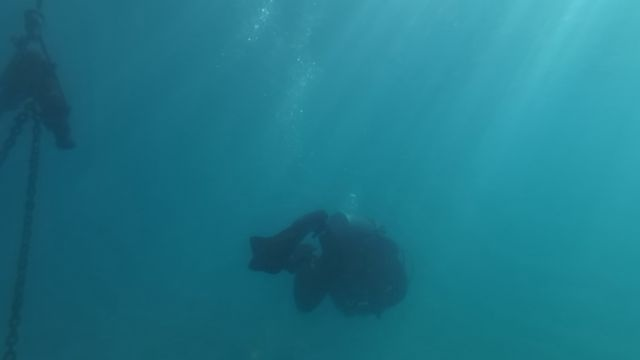Diver: (243, 200, 416, 329)
